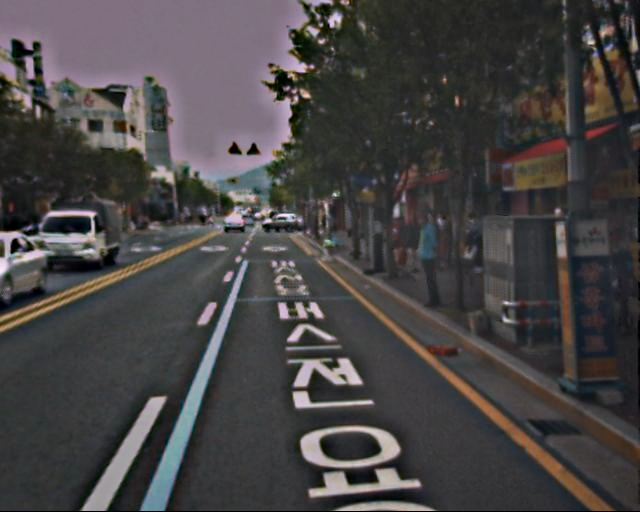person: (581, 220, 639, 333), (409, 209, 449, 306), (393, 209, 423, 281), (461, 211, 486, 273)
